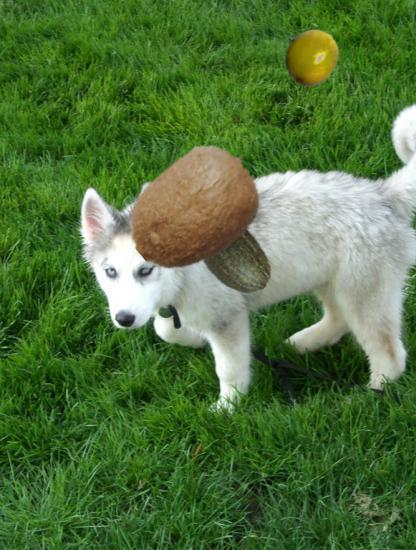Kiwi: (125, 140, 267, 282)
Maracuja: (280, 26, 341, 87)
Melon: (192, 207, 283, 298)
